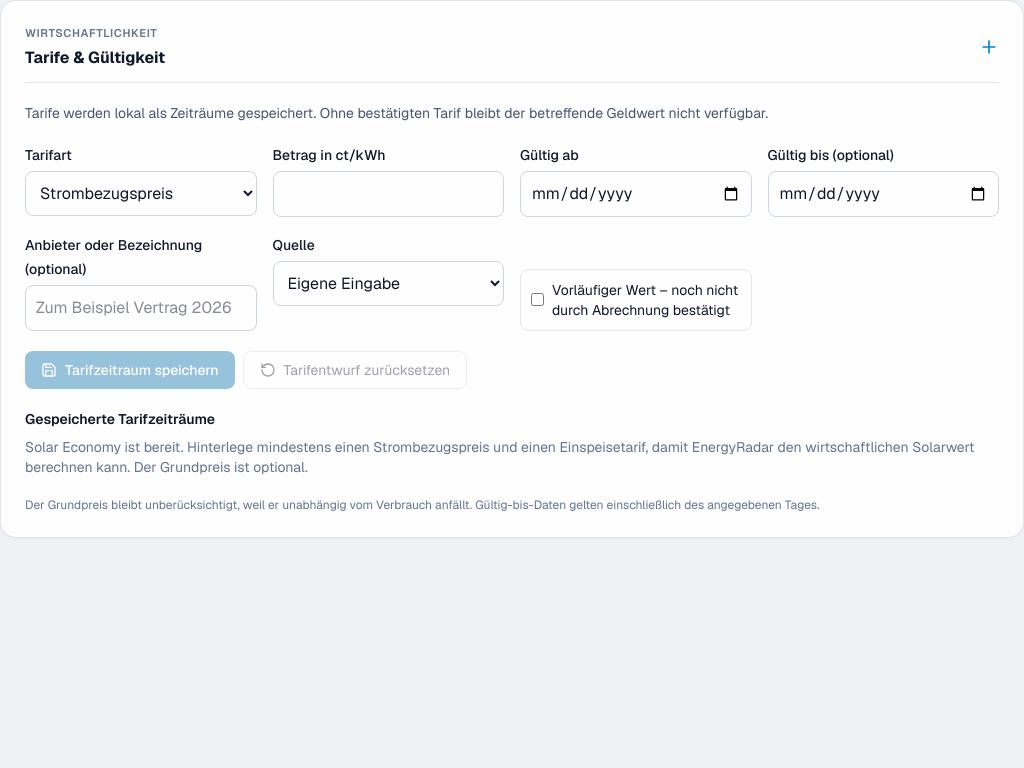
Test: TariffSettings › has accessible labels and save/discard dirty-state semantics
This screenshot has width=1024, height=768.
Expected: the button "Tarifzeitraum speichern" is disabled, [25, 351, 235, 389]
Expected: the button "Tarifentwurf zurücksetzen" is disabled, [243, 351, 467, 389]
Type "34.00" into the number field labelled "Betrag in ct/kWh".
click(388, 194); type("34.00")  # box [272, 171, 504, 217]
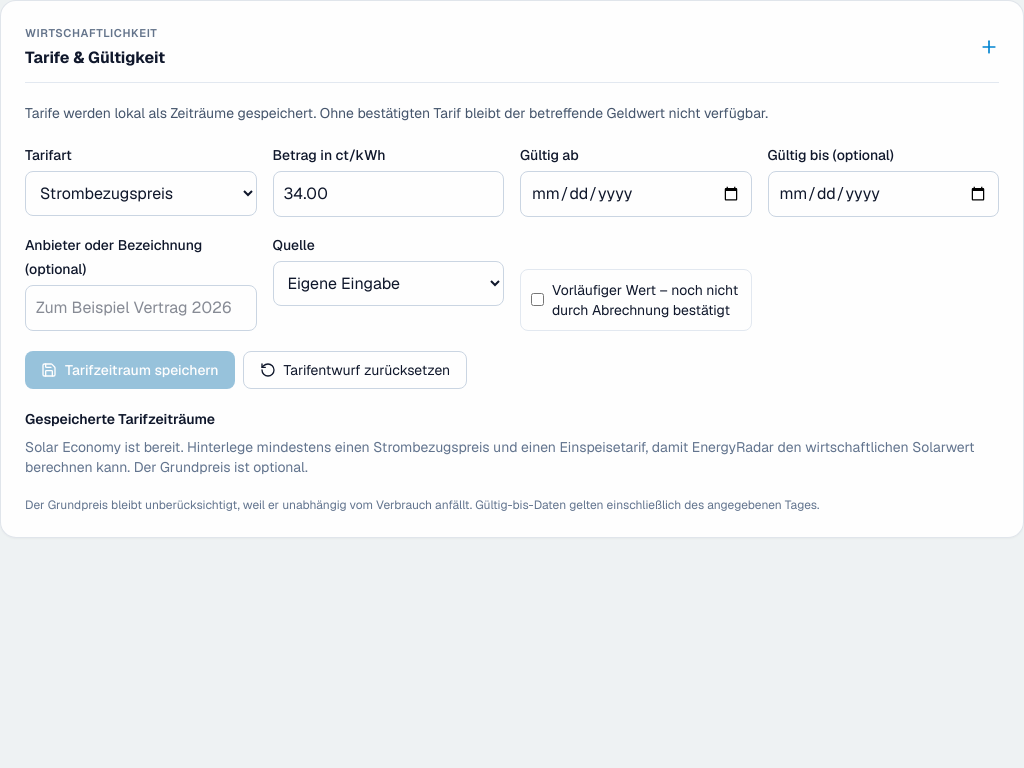
Type "2026-01-01" into the date field labelled "Gültig ab".
click(636, 194); type("2026-01-01")  # box [520, 171, 752, 217]
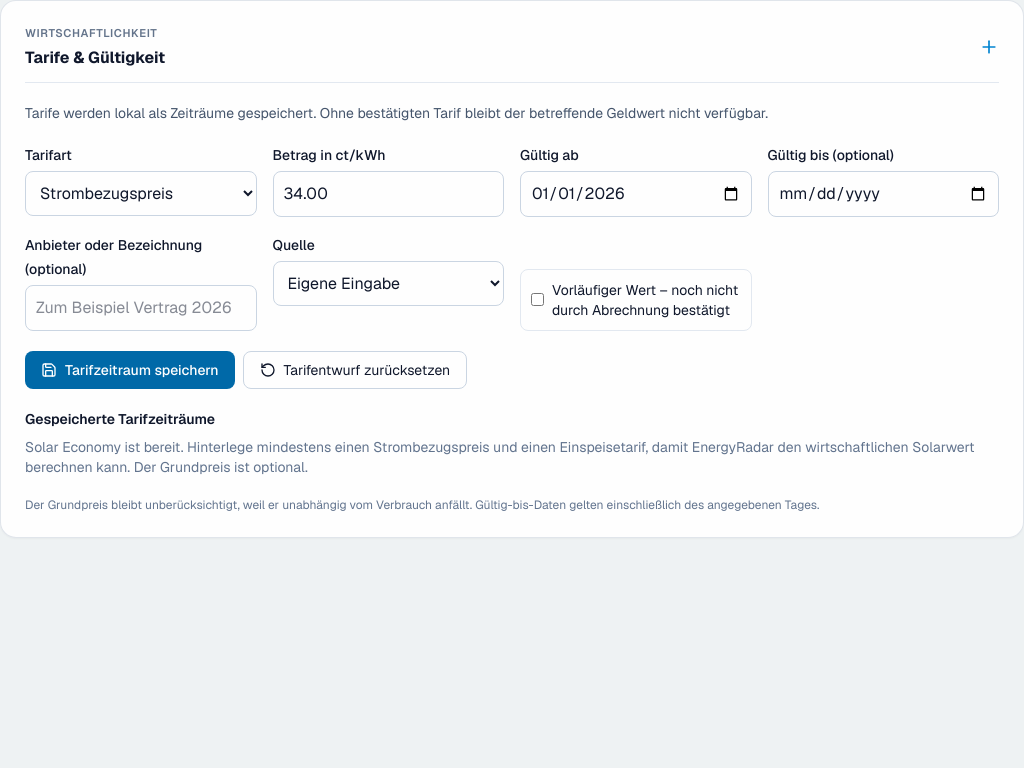
Expected: the button "Tarifentwurf zurücksetzen" is enabled
Expected: the button "Tarifzeitraum speichern" is enabled, [25, 351, 235, 389]
Click the button "Tarifentwurf zurücksetzen".
click(355, 370)  # box [243, 351, 467, 389]
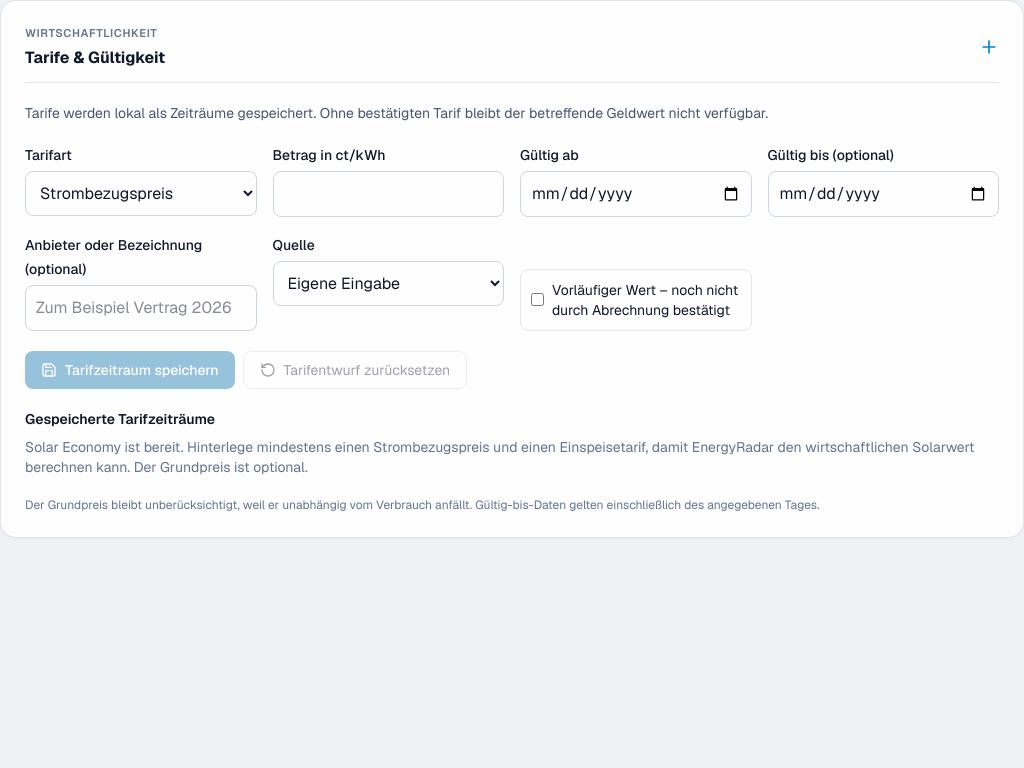
Expected: the number field labelled "Betrag in ct/kWh" is not empty, [272, 171, 504, 217]
Expected: the button "Tarifzeitraum speichern" is disabled, [25, 351, 235, 389]
